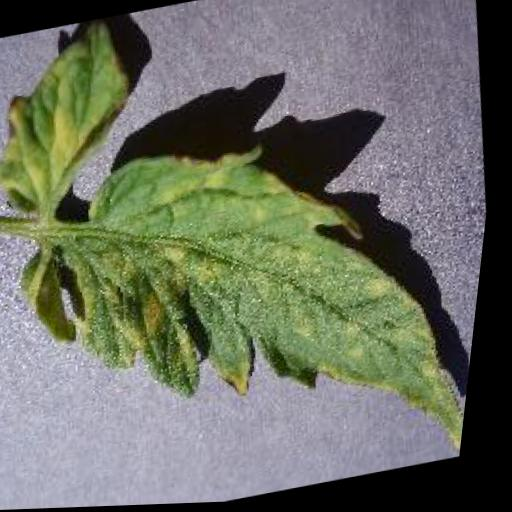Leaf Mold: (46, 103, 502, 509), (0, 12, 161, 225)
